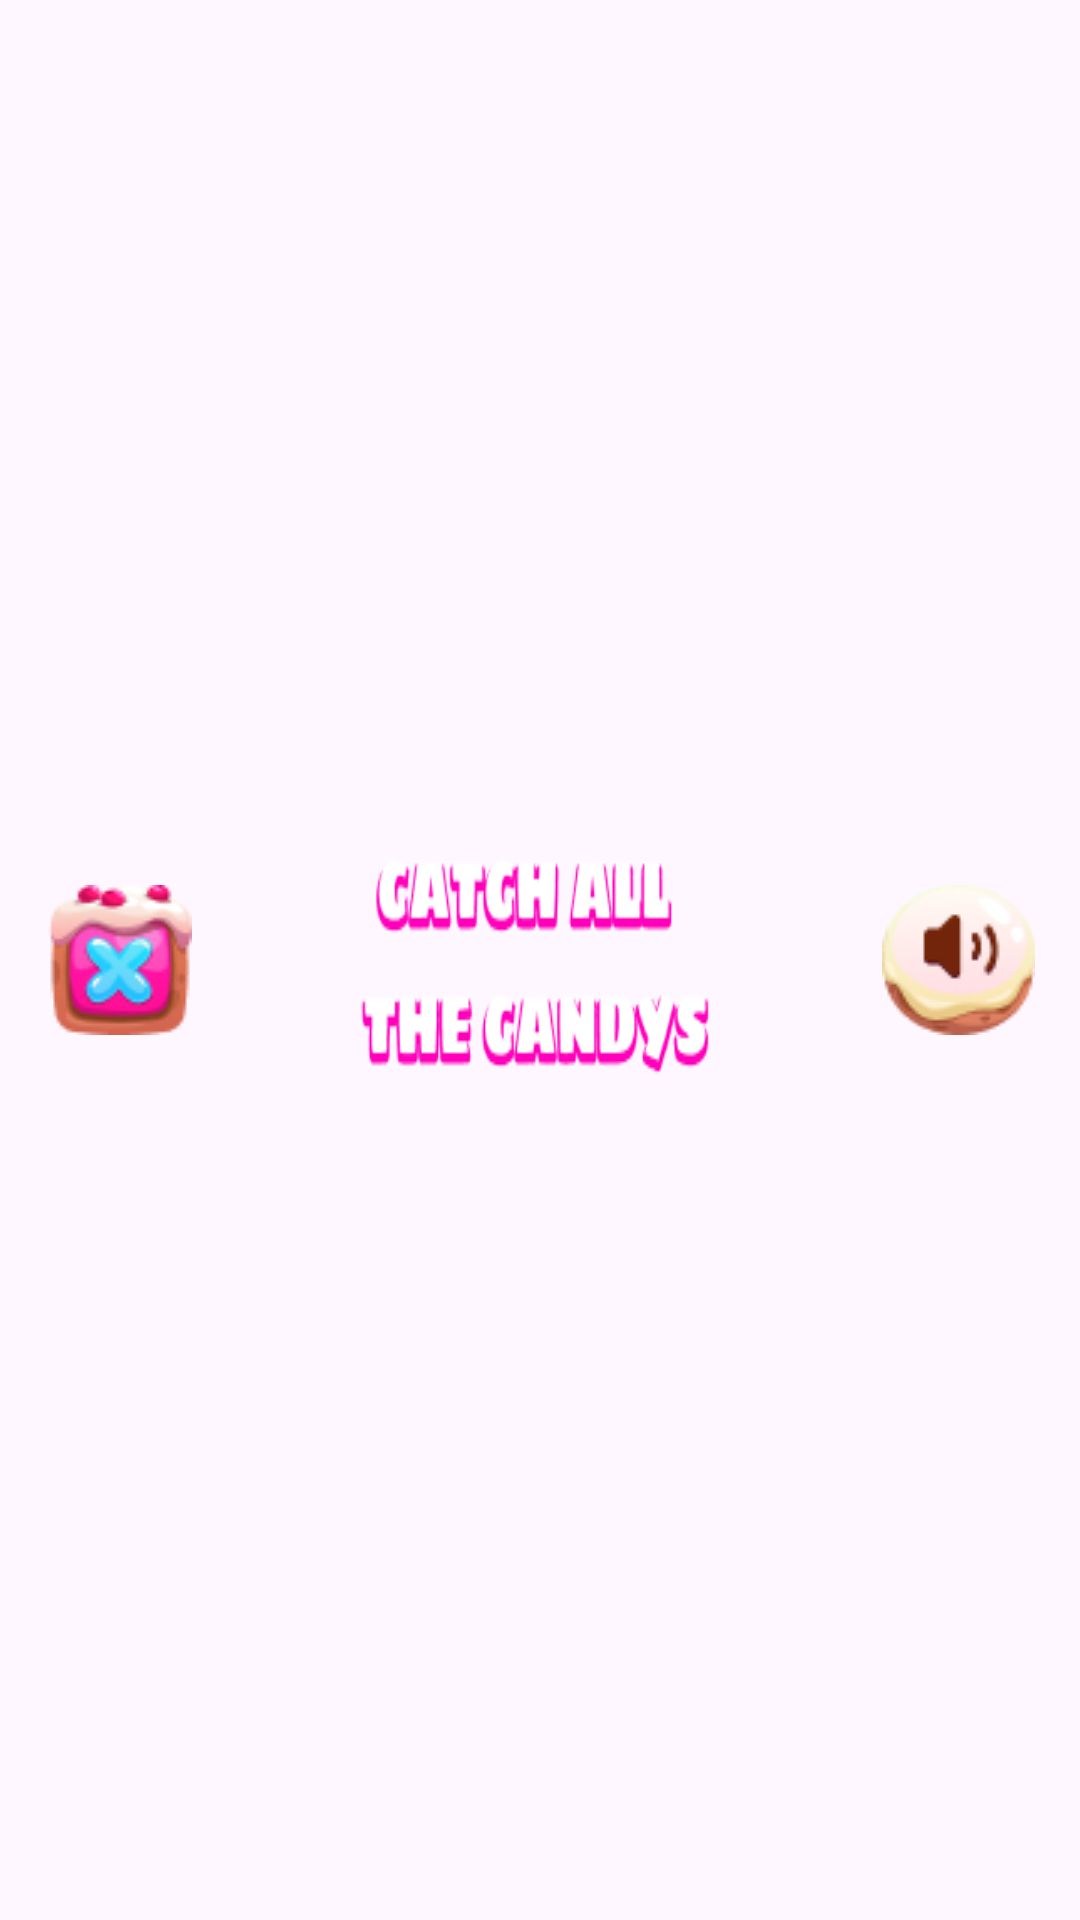

Point at icon controls on the screen. Image size 1080×1920, points as (x,y).
exit: (121,960)
sound on: (958,960)
